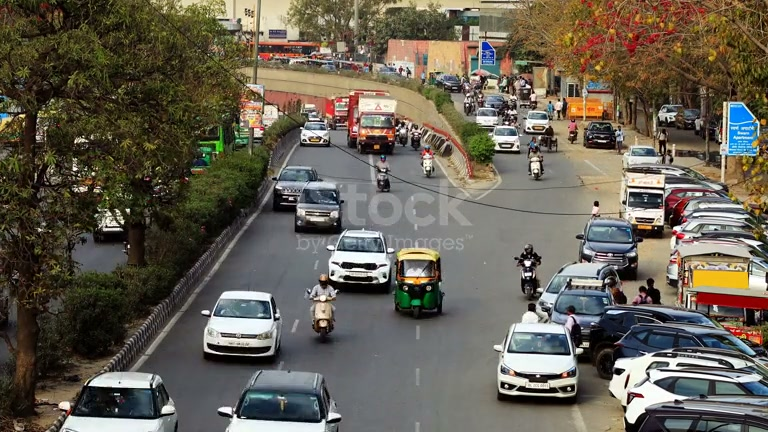car: (601, 327, 767, 396), (590, 305, 746, 377), (614, 360, 768, 426), (610, 355, 768, 410), (602, 324, 759, 376), (217, 369, 342, 432), (57, 370, 179, 431), (493, 322, 580, 403), (201, 290, 284, 361), (534, 264, 619, 323), (326, 229, 394, 292), (630, 399, 767, 430), (575, 218, 642, 281), (550, 290, 615, 349), (294, 181, 343, 234), (272, 165, 319, 211), (622, 146, 662, 172), (584, 121, 619, 150), (491, 126, 521, 153), (300, 121, 331, 147), (523, 109, 552, 135), (475, 108, 502, 129), (435, 74, 462, 91)
motorcycle: (308, 296, 338, 341), (516, 257, 541, 298), (527, 140, 544, 179), (528, 158, 544, 179)
pedestrian: (306, 274, 338, 329), (515, 243, 543, 283), (644, 277, 662, 306), (632, 286, 653, 306)
truck: (393, 247, 446, 318), (354, 92, 397, 154)
